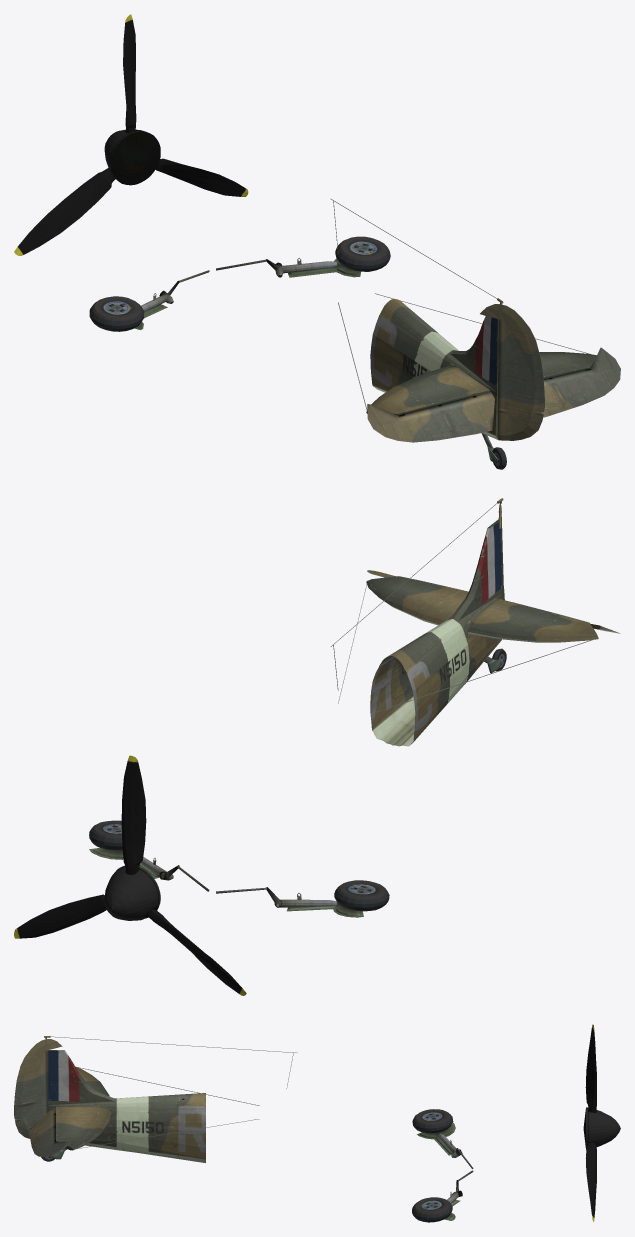
File: rear.obj
3 renders of one model, top to bottom at view 1: azimuth 30°, elevation 25°; view 2: azimuth 150°, elevation 25°; view 3: azimuth 270°, elevation 25°, orthographic. The views are drawn at different scales.
Parts seen in each view (by area): view 1: rear; view 2: rear; view 3: rear.
Part boxes in pixels (<box>): rear: <box>14,14,620,469</box>; rear: <box>14,498,620,995</box>; rear: <box>14,1024,620,1222</box>.
Size of the model in its own units: 3.9 by 2.72 by 9.45.
Materials: 1 (1 with a texture image).
